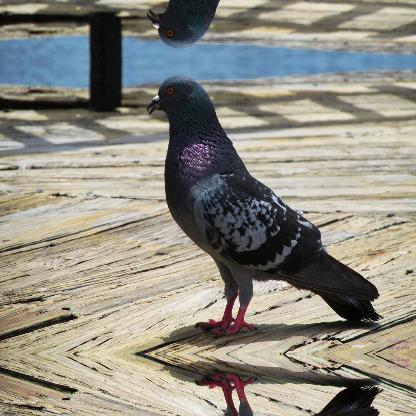Bird: (144, 75, 382, 333)
